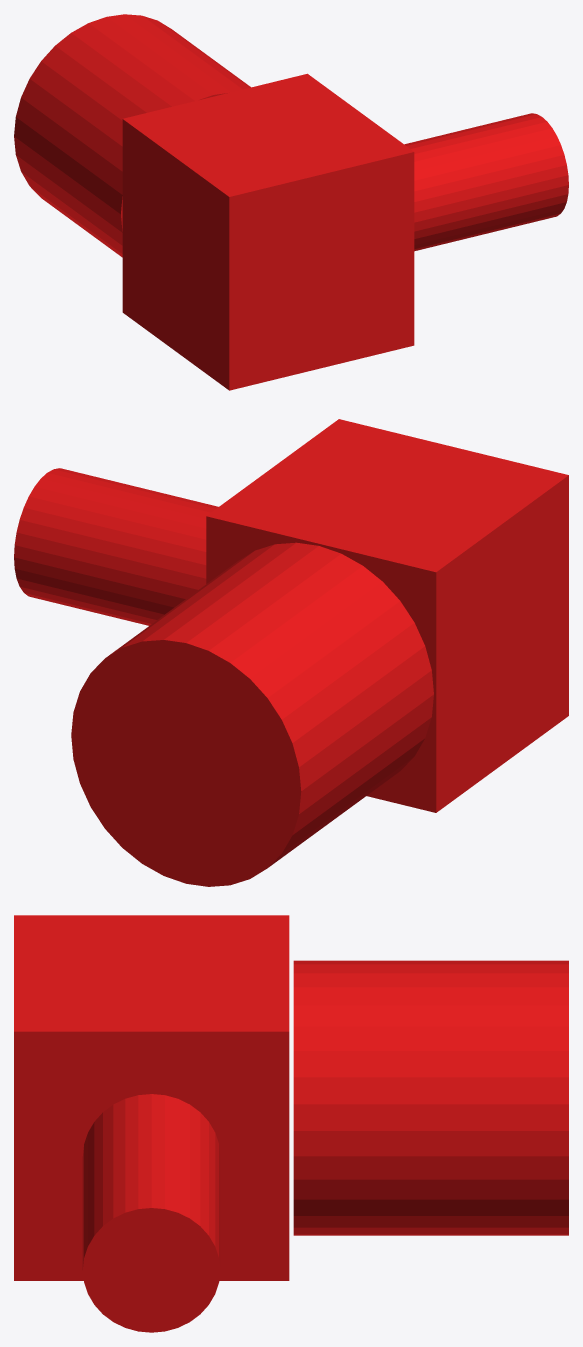
File: EnemyTes.fbx
The picture shows the model from 3 angles, top to bottom: view 1: azimuth 30°, elevation 25°; view 2: azimuth 150°, elevation 25°; view 3: azimuth 270°, elevation 25°; orthographic projection. The views are drawn at different scales.
Visible parts, largest first — view 1: Cube; view 2: Cube; view 3: Cube.
Boxes of the visible parts, x1,y1,x2,y2 form: Cube: (14,14,568,390); Cube: (14,419,568,886); Cube: (14,915,568,1332).
Bounding box in the file's own units: 3.96 × 2 × 4.03.
